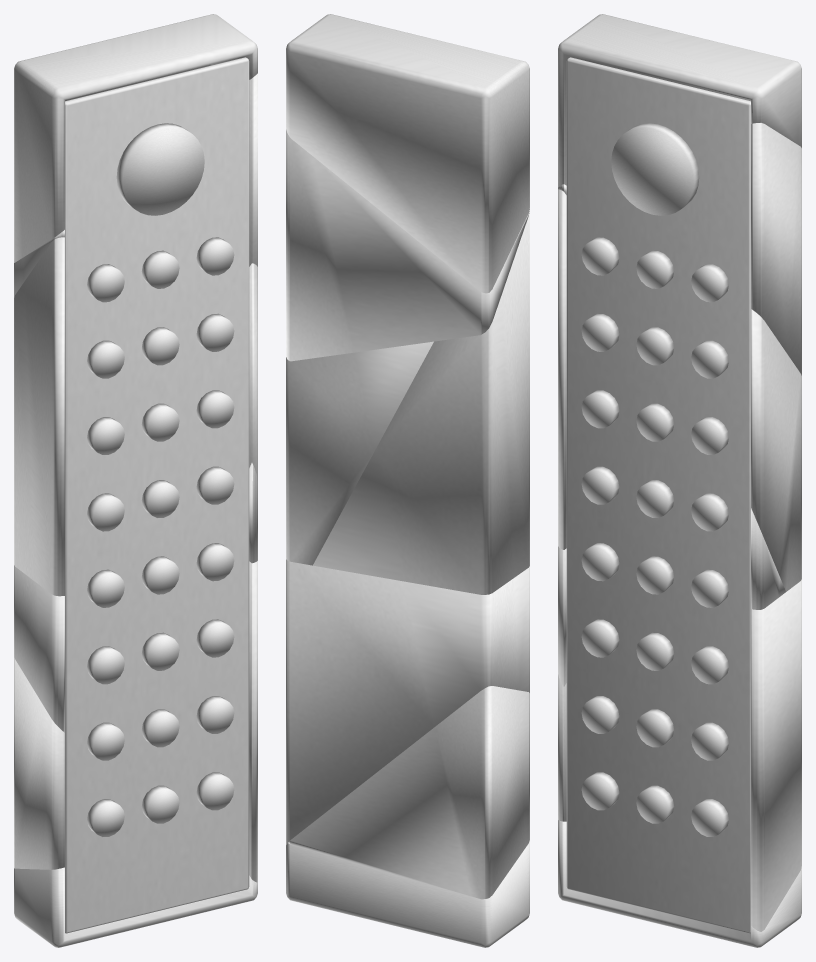
The model's file is fracture-solids.glb.
The picture shows the model from 3 angles, left to right: view 1: azimuth 30°, elevation 25°; view 2: azimuth 150°, elevation 25°; view 3: azimuth 330°, elevation 25°; orthographic projection.
Parts seen in each view (by area): view 1: fragment-008, fragment-001, fragment-003, fragment-006, fragment-000, fragment-034, fragment-007, fragment-002, fragment-005, fragment-013, fragment-011, fragment-026 (+22 smaller); view 2: fragment-001, fragment-000, fragment-003, fragment-006, fragment-002, fragment-005, fragment-007; view 3: fragment-008, fragment-000, fragment-001, fragment-005, fragment-002, fragment-034, fragment-007, fragment-003, fragment-004, fragment-006, fragment-015, fragment-010 (+22 smaller).
Boxes of the visible parts, x1,y1,x2,y2 form: fragment-008: (65, 57, 249, 933); fragment-001: (14, 14, 257, 262); fragment-003: (14, 237, 64, 596); fragment-006: (14, 657, 64, 869); fragment-000: (14, 561, 257, 882); fragment-034: (116, 123, 204, 215); fragment-007: (14, 867, 257, 947); fragment-002: (14, 73, 257, 297); fragment-005: (249, 263, 257, 480); fragment-013: (87, 722, 124, 760); fragment-011: (141, 785, 179, 823); fragment-026: (141, 403, 179, 441); fragment-001: (286, 14, 529, 293); fragment-000: (286, 559, 529, 844); fragment-003: (313, 210, 529, 594); fragment-006: (288, 686, 529, 899); fragment-002: (286, 129, 529, 361); fragment-005: (286, 341, 433, 565); fragment-007: (286, 840, 529, 947); fragment-008: (566, 57, 750, 933); fragment-000: (558, 546, 801, 931); fragment-001: (558, 14, 801, 187); fragment-005: (751, 309, 801, 591); fragment-002: (558, 123, 801, 375); fragment-034: (611, 123, 699, 215); fragment-007: (558, 820, 801, 947); fragment-003: (558, 189, 566, 549); fragment-004: (751, 508, 785, 609); fragment-006: (558, 674, 566, 821); fragment-015: (691, 722, 728, 760); fragment-010: (581, 772, 619, 810).
Size of the model in its own units: 0.045 by 0.18 by 0.019.
Materials: 1 (1 with a texture image).
